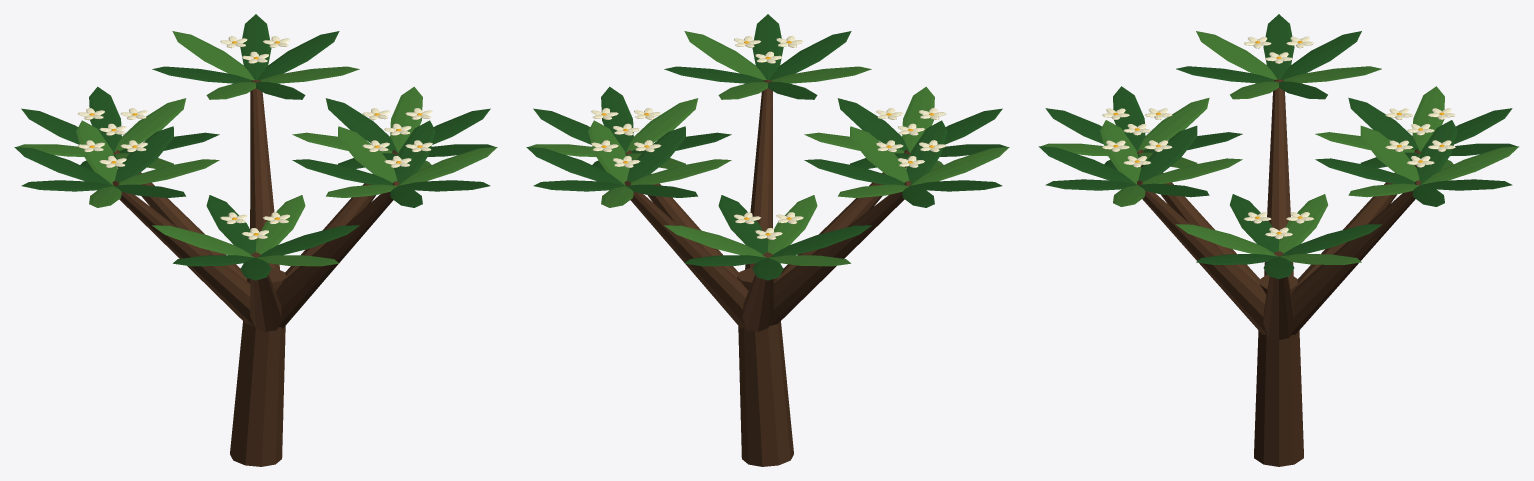
Rendered from edited.glb.
The picture shows the model from 3 angles, left to right: view 1: azimuth 30°, elevation 25°; view 2: azimuth 150°, elevation 25°; view 3: azimuth 270°, elevation 25°; orthographic projection.
Visible parts, largest first — view 1: TRUNK, LEAVES_Rosette.001, LEAVES_Rosette.005, LEAVES_Rosette.003, LEAVES_Rosette.004, LEAVES_Rosette.002, LEAVES_Rosette, BRANCH_Fleshy, BRANCH_Fleshy.004, BRANCH_Fleshy.002, BRANCH_Fleshy.005, BRANCH_Fleshy.003 (+7 smaller); view 2: TRUNK, LEAVES_Rosette.005, LEAVES_Rosette.001, LEAVES_Rosette.003, LEAVES_Rosette.002, LEAVES_Rosette.004, LEAVES_Rosette, BRANCH_Fleshy.002, BRANCH_Fleshy.004, BRANCH_Fleshy, BRANCH_Fleshy.003, BRANCH_Fleshy.005 (+7 smaller); view 3: LEAVES_Rosette.003, LEAVES_Rosette.005, LEAVES_Rosette.001, LEAVES_Rosette, TRUNK, LEAVES_Rosette.002, LEAVES_Rosette.004, BRANCH_Fleshy.002, BRANCH_Fleshy, BRANCH_Fleshy.004, BRANCH_Fleshy.001, BRANCH_Fleshy.003 (+7 smaller).
Part boxes in pixels (bbox=[...]): TRUNK: bbox=[230, 268, 286, 466]; LEAVES_Rosette.001: bbox=[152, 14, 359, 99]; LEAVES_Rosette.005: bbox=[292, 120, 497, 207]; LEAVES_Rosette.003: bbox=[14, 120, 219, 207]; LEAVES_Rosette.004: bbox=[152, 195, 359, 280]; LEAVES_Rosette.002: bbox=[17, 86, 219, 171]; LEAVES_Rosette: bbox=[292, 86, 494, 171]; BRANCH_Fleshy: bbox=[276, 181, 399, 328]; BRANCH_Fleshy.004: bbox=[112, 181, 253, 325]; BRANCH_Fleshy.002: bbox=[250, 80, 279, 269]; BRANCH_Fleshy.005: bbox=[250, 252, 281, 331]; BRANCH_Fleshy.003: bbox=[113, 150, 247, 280]; TRUNK: bbox=[737, 268, 793, 466]; LEAVES_Rosette.005: bbox=[664, 14, 871, 99]; LEAVES_Rosette.001: bbox=[526, 120, 731, 207]; LEAVES_Rosette.003: bbox=[804, 120, 1009, 207]; LEAVES_Rosette.002: bbox=[664, 195, 871, 280]; LEAVES_Rosette.004: bbox=[804, 86, 1006, 171]; LEAVES_Rosette: bbox=[529, 86, 731, 171]; BRANCH_Fleshy.002: bbox=[624, 181, 748, 328]; BRANCH_Fleshy.004: bbox=[770, 181, 911, 325]; BRANCH_Fleshy: bbox=[745, 80, 772, 269]; BRANCH_Fleshy.003: bbox=[742, 252, 773, 331]; BRANCH_Fleshy.005: bbox=[776, 150, 910, 280]; LEAVES_Rosette.003: bbox=[1176, 14, 1381, 99]; LEAVES_Rosette.005: bbox=[1039, 120, 1242, 206]; LEAVES_Rosette.001: bbox=[1315, 120, 1518, 206]; LEAVES_Rosette: bbox=[1176, 194, 1381, 278]; TRUNK: bbox=[1254, 274, 1303, 466]; LEAVES_Rosette.002: bbox=[1315, 86, 1516, 170]; LEAVES_Rosette.004: bbox=[1041, 86, 1242, 170]; BRANCH_Fleshy.002: bbox=[1290, 180, 1421, 335]; BRANCH_Fleshy: bbox=[1137, 180, 1267, 334]; BRANCH_Fleshy.004: bbox=[1264, 79, 1293, 275]; BRANCH_Fleshy.001: bbox=[1263, 251, 1294, 340]; BRANCH_Fleshy.003: bbox=[1297, 149, 1420, 285].
Size of the model in its own units: 3.3 by 2.29 by 2.94.
